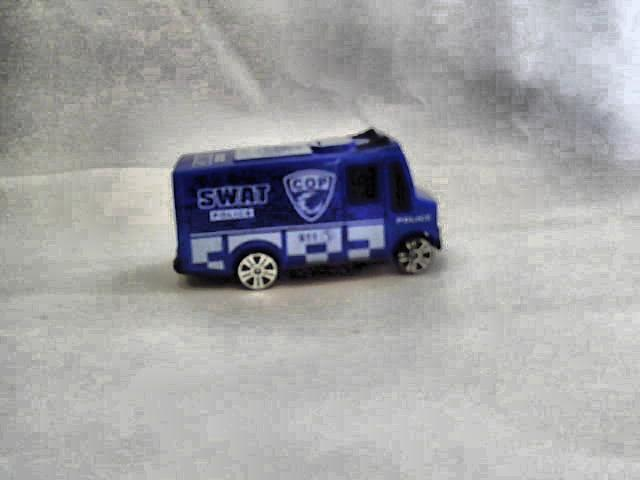police car: (168, 121, 442, 292)
